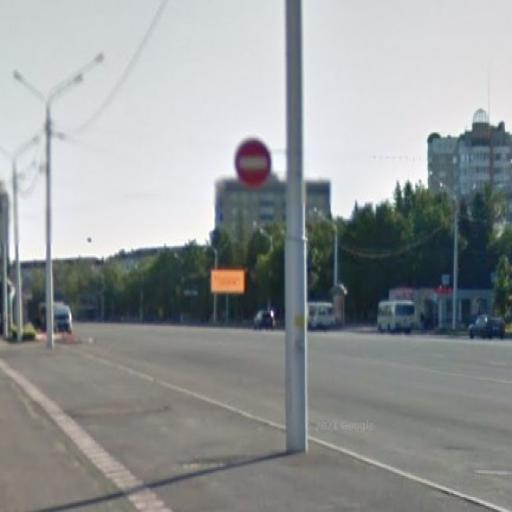traffic_sign: (234, 139, 275, 189)
